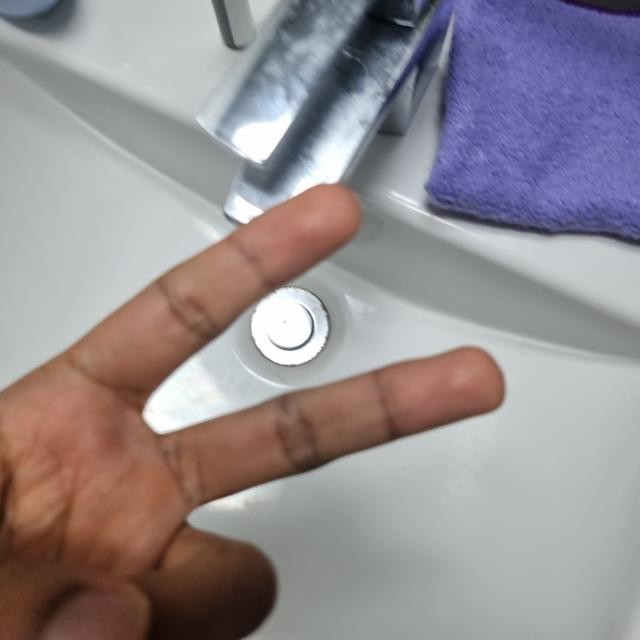Scissors: (1, 184, 502, 639)
